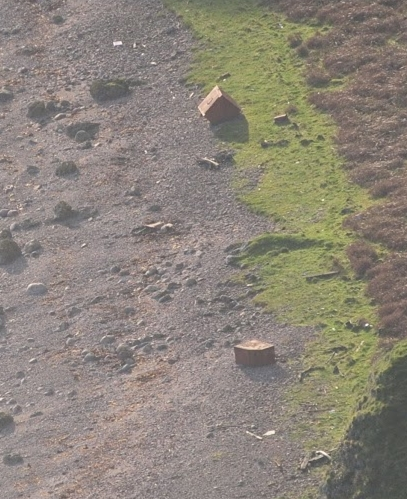cuboid: (226, 328, 285, 377), (191, 81, 249, 130)
